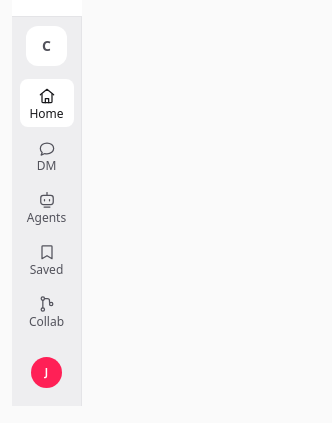
Test case: 계정 메뉴 (#113) — 자리만 레일로 옮겼다 › Escape 로 닫히고 포커스가 트리거로 돌아온다
Click the button with test id "me-row" at (46, 373), box [16,348,76,397]
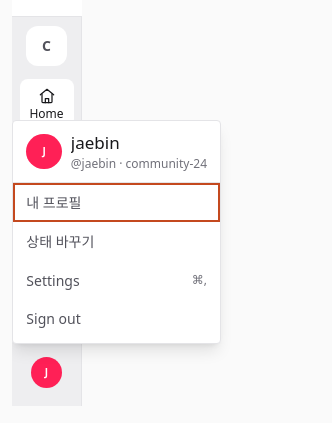
Now the menu is shown
Press Escape in the menu, box [12,120,221,344]
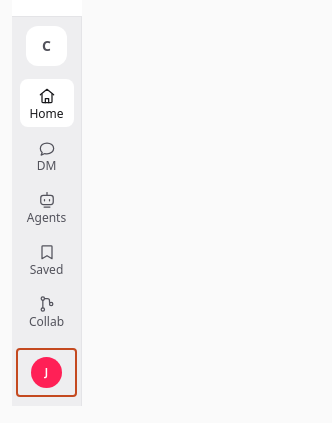
Now the menu is gone
